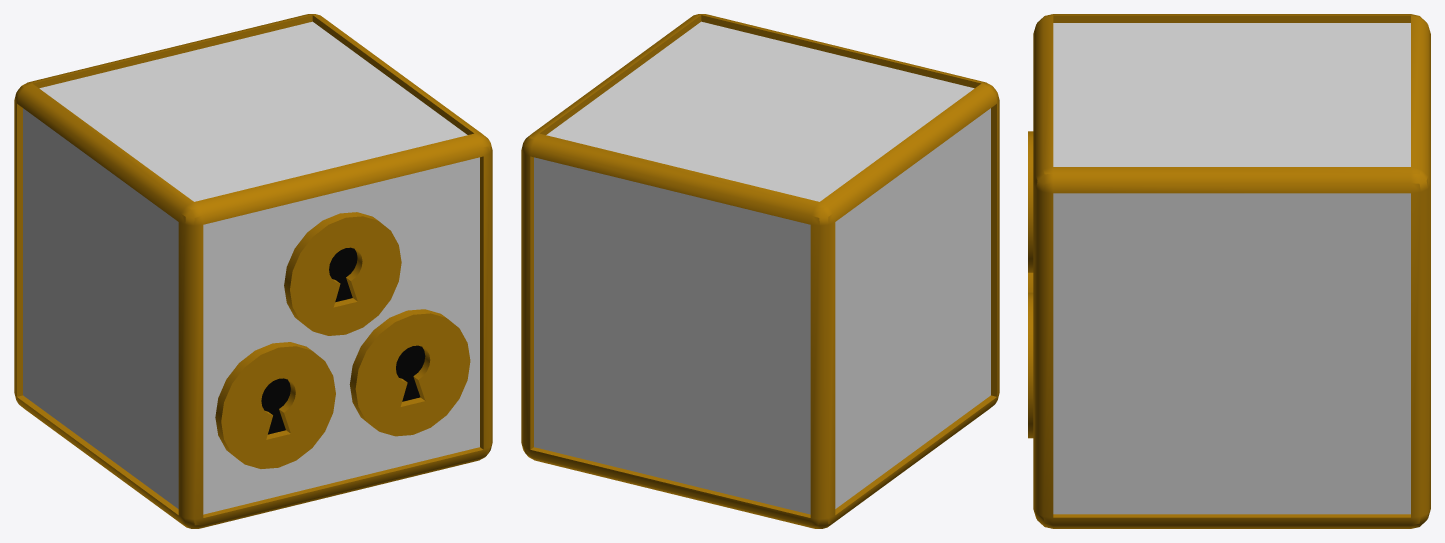
The model's file is friend3.fbx.
3 views of the same model, side by side, from view 1: azimuth 30°, elevation 25°; view 2: azimuth 150°, elevation 25°; view 3: azimuth 270°, elevation 25° (orthographic). The views are drawn at different scales.
Parts seen in each view (by area): view 1: pCube3, pCylinder3, pCylinder1, pCylinder2; view 2: pCube3; view 3: pCube3, pCylinder3, pCylinder2.
Part boxes in pixels (x1,y1,x2,y2): pCube3: (14,14,492,528); pCylinder3: (349,309,470,436); pCylinder1: (215,342,335,468); pCylinder2: (284,212,401,335); pCube3: (521,14,999,528); pCube3: (1033,14,1430,528); pCylinder3: (1028,292,1033,438); pCylinder2: (1028,131,1033,272).
Bounding box in the file's own units: 1 × 1 × 1.01.
